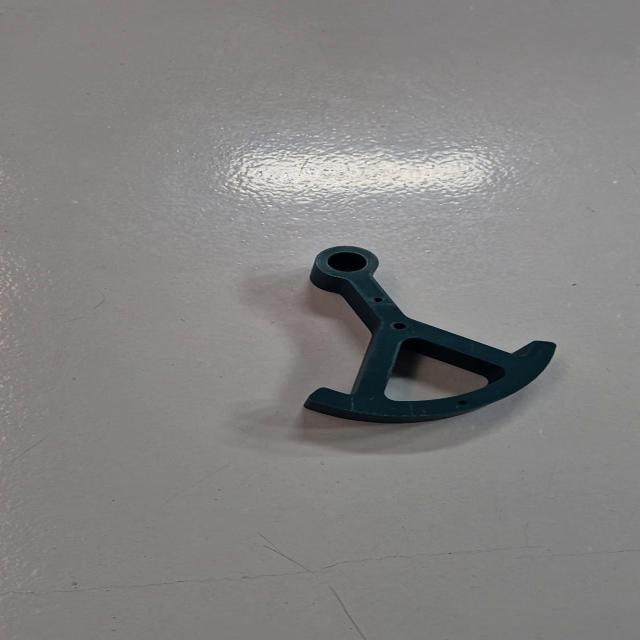haptic: (301, 245, 559, 424)
